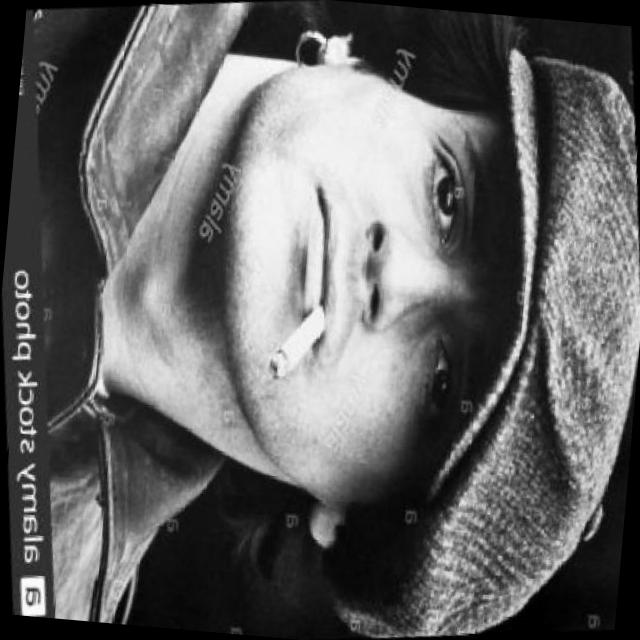smoke: (253, 298, 334, 390)
